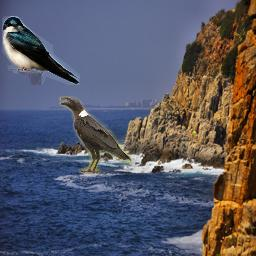Crow: (59, 96, 132, 174)
Swallow: (2, 16, 80, 85)
